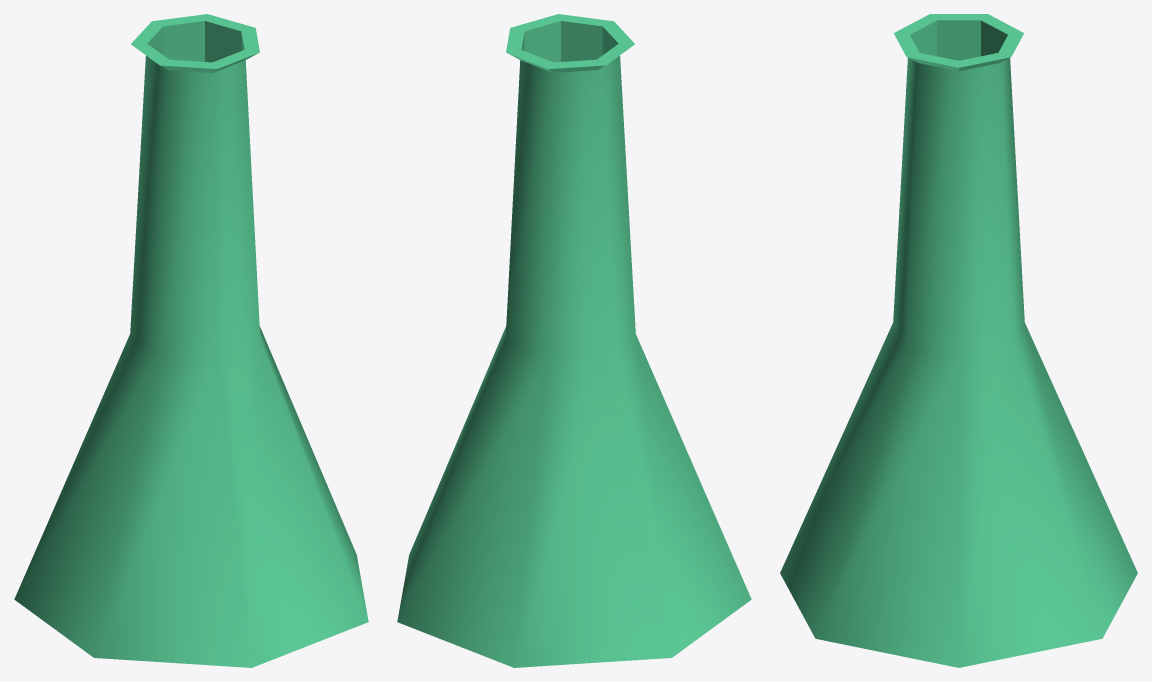
Rendered from botella3.glb.
The picture shows the model from 3 angles, left to right: view 1: azimuth 30°, elevation 25°; view 2: azimuth 150°, elevation 25°; view 3: azimuth 270°, elevation 25°; orthographic projection.
Visible parts, largest first — view 1: Cone001; view 2: Cone001; view 3: Cone001.
Part boxes in pixels (<box>): Cone001: <box>14,14,368,667</box>; Cone001: <box>397,14,751,667</box>; Cone001: <box>780,14,1137,667</box>.
Bounding box in the file's own units: 0.154 × 0.2682 × 0.1579.
